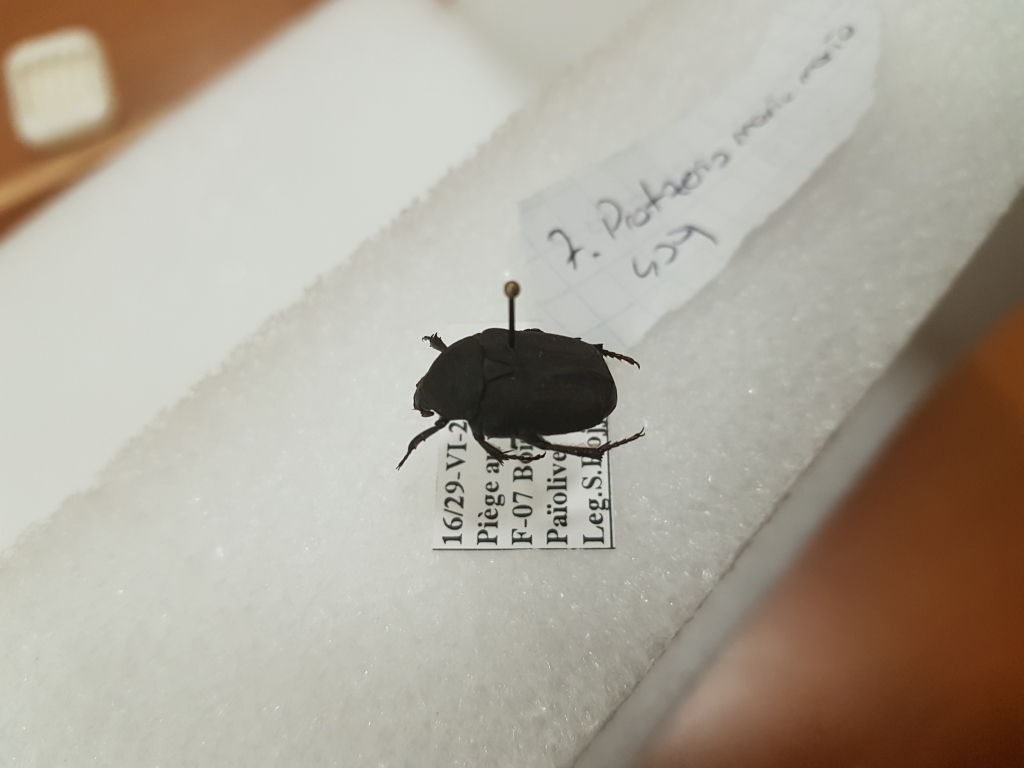Protaetia_morio_morio: (384, 321, 651, 474)
